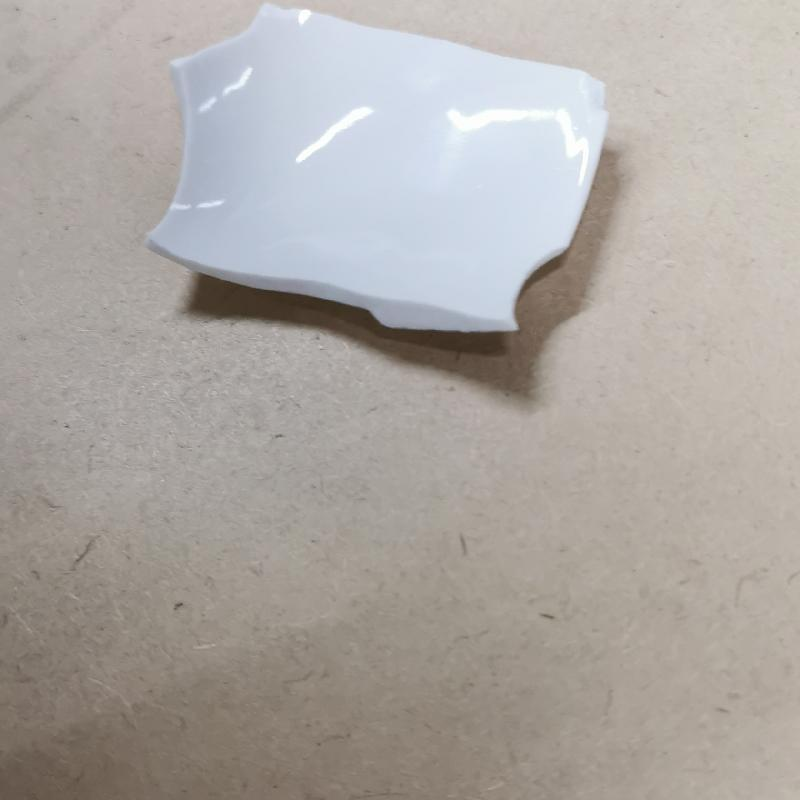ceram: (141, 0, 633, 339)
